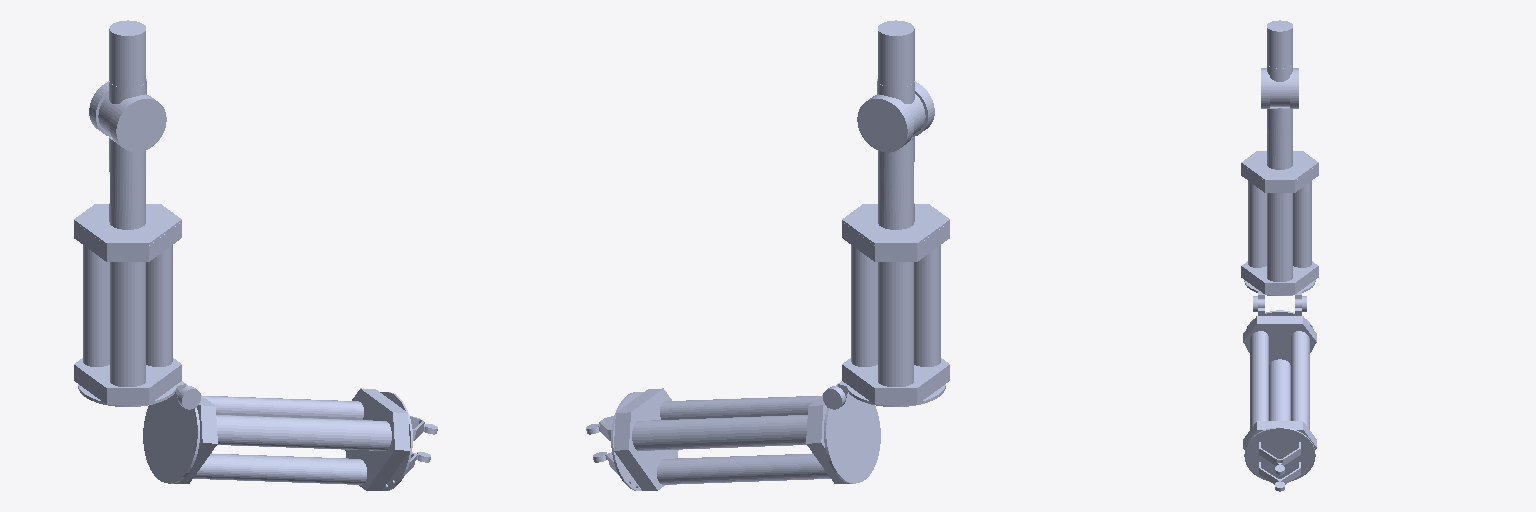
The robot description file, URDF, robot "softarm":
<?xml version="1.0" encoding="utf-8"?>
<robot
  name="softarm">
  <link name="world">
    <inertial>
      <mass value="0.00001" />
      <origin xyz="0.0 0.0 0.0" rpy="0 0 0" />
      <inertia ixx="0.00001" ixy="0" ixz="0" iyy="0.00001" iyz="0" izz="0.00001" />
    </inertial>
  </link>
  <joint
    name="world_fixed" type="fixed">
    <origin
      xyz="0 0 0"
      rpy="0 0 0" />
    <parent
      link="world" />
    <child
      link="Link1" />
  </joint>
  <link
    name="Link1">
    <inertial>
      <origin
        xyz="0 0 0"
        rpy="0 0 0" />
      <mass
        value="0.78" />
      <inertia
        ixx="0.00039261"
        ixy="-0.00000153"
        ixz="-0.00000322"
        iyy="0.00121497"
        iyz="0.00000248"
        izz="0.00123050" />
    </inertial>
    <visual>
      <origin
        xyz="0 0 -0.0947"
        rpy="0 3.141592 0" />
      <geometry>
        <mesh
          filename="meshes/Link1.stl" />
      </geometry>
      <material
        name="">
        <color
          rgba="0.79216 0.81961 0.93333 1" />
      </material>
    </visual>
    <collision>
      <origin
        xyz="0 0 0"
        rpy="0 0 0" />
      <geometry>
        <mesh
          filename="meshes/Link1.stl" />
      </geometry>
    </collision>
  </link>
  <link
    name="Link2">
    <inertial>
      <origin
        xyz="0 0 0"
        rpy="0 0 0" />
      <mass
        value="1.655" />
      <inertia
        ixx="0.00231828"
        ixy="0.00000590"
        ixz="-0.00006193"
        iyy="0.00261905"
        iyz="0.00000692"
        izz="0.00207261" />
    </inertial>
    <visual>
      <origin
        xyz="0 0 0"
        rpy="0 3.141592 0" />
      <geometry>
        <mesh
          filename="meshes/Link2.stl" />
      </geometry>
      <material
        name="">
        <color
          rgba="0.79216 0.81961 0.93333 1" />
      </material>
    </visual>
    <collision>
      <origin
        xyz="0 0 0"
        rpy="0 0 0" />
      <geometry>
        <mesh
          filename="meshes/Link2.stl" />
      </geometry>
    </collision>
  </link>
  <joint
    name="Joint1"
    type="revolute">
    <origin
      xyz="0 0 -0.0947"
      rpy="0 3.141592 0" />
    <parent
      link="Link1" />
    <child
      link="Link2" />
    <axis
      xyz="0 0 1" />
    <limit
      lower="-2.4"
      upper="2.4"
      effort="100"
      velocity="10" />
  </joint>
  <link
    name="Link3">
    <inertial>
      <origin
        xyz="0 0 0"
        rpy="0 0 0" />
      <mass
        value="0.64" />
      <inertia
        ixx="0.00032465"
        ixy="-0.00001796"
        ixz="0.00002004"
        iyy="0.00102253"
        iyz="0.00000286"
        izz="0.00102846" />
    </inertial>
    <visual>
      <origin
        xyz="0 0 0"
        rpy="0 3.141592 0" />
      <geometry>
        <mesh
          filename="meshes/Link3.stl" />
      </geometry>
      <material
        name="">
        <color
          rgba="0.792156862745098 0.819607843137255 0.933333333333333 1" />
      </material>
    </visual>
    <collision>
      <origin
        xyz="0 0 0"
        rpy="0 0 0" />
      <geometry>
        <mesh
          filename="meshes/Link3.stl" />
      </geometry>
    </collision>
  </link>
  <joint
    name="Joint2"
    type="revolute">
    <origin
      xyz="0 0 0.0645"
      rpy="0 0 0" />
    <parent
      link="Link2" />
    <child
      link="Link3" />
    <axis
      xyz="0 1 0" />
    <limit
      lower="-2.4"
      upper="0.5"
      effort="100"
      velocity="10" />
  </joint>
  <link
    name="Link4">
    <inertial>
      <origin
        xyz="0 0 0"
        rpy="0 0 0" />
      <mass
        value="1.075" />
      <inertia
        ixx="0.0405477407666747"
        ixy="-0.000289468434912619"
        ixz="1.71060085725038E-08"
        iyy="0.0104663629578157"
        iyz="9.60841124291398E-09"
        izz="0.0406532684842406" />
    </inertial>
    <visual>
      <origin
        xyz="0 0 0"
        rpy="0 3.141592 0" />
      <geometry>
        <mesh
          filename="meshes/Link4.stl" />
      </geometry>
      <material
        name="">
        <color
          rgba="0.792156862745098 0.819607843137255 0.933333333333333 1" />
      </material>
    </visual>
    <collision>
      <origin
        xyz="0 0 0"
        rpy="0 0 0" />
      <geometry>
        <mesh
          filename="meshes/Link4.stl" />
      </geometry>
    </collision>
  </link>
  <joint
    name="Joint3"
    type="revolute">
    <origin
      xyz="0 0 0.1603"
      rpy="0 0 0" />
    <parent
      link="Link3" />
    <child
      link="Link4" />
    <axis
      xyz="0 0 1" />
    <limit
      lower="-2.4"
      upper="2.4"
      effort="100"
      velocity="10" />
  </joint>
  <link
    name="Link5">
    <inertial>
      <origin
        xyz="0 0 0"
        rpy="0 0 0" />
      <mass
        value="1.270" />
      <inertia
        ixx="0.0758384252554791"
        ixy="0.000649795347183711"
        ixz="2.80804082321391E-08"
        iyy="0.0101507634836524"
        iyz="-1.90330184436038E-08"
        izz="0.0759862885863381" />
    </inertial>
    <visual>
      <origin
        xyz="0 0 0"
        rpy="0 3.141592 0" />
      <geometry>
        <mesh
          filename="meshes/Link5.stl" />
      </geometry>
      <material
        name="">
        <color
          rgba="0.792156862745098 0.819607843137255 0.933333333333333 1" />
      </material>
    </visual>
    <collision>
      <origin
        xyz="0 0 0"
        rpy="0 0 0" />
      <geometry>
        <mesh
          filename="meshes/Link5.stl" />
      </geometry>
    </collision>
  </link>
  <joint
    name="Joint4"
    type="revolute">
    <origin
      xyz="-0.0853 0 0.3515"
      rpy="0 0 0" />
    <parent
      link="Link4" />
    <child
      link="Link5" />
    <axis
      xyz="0 1 0" />
    <limit
      lower="-2.0944"
      upper="-0.5236"
      effort="100"
      velocity="10" />
  </joint>
  <link
    name="Link6">
    <inertial>
      <origin
        xyz="0 0 0"
        rpy="0 0 0" />
      <mass
        value="0.575" />
      <inertia
        ixx="0.00302781236106101"
        ixy="2.1589413987634E-19"
        ixz="4.063629973015E-19"
        iyy="0.00292442908958181"
        iyz="6.86907194908181E-19"
        izz="0.00309506252392298" />
    </inertial>
    <visual>
      <origin
        xyz="0 0 0"
        rpy="0 3.141592 0" />
      <geometry>
        <mesh
          filename="meshes/Link6.stl" />
      </geometry>
      <material
        name="">
        <color
          rgba="0.792156862745098 0.819607843137255 0.933333333333333 1" />
      </material>
    </visual>
    <collision>
      <origin
        xyz="0 0 0"
        rpy="0 0 0" />
      <geometry>
        <mesh
          filename="meshes/Link6.stl" />
      </geometry>
    </collision>
  </link>
  <joint
    name="Joint5"
    type="revolute">
    <origin
      xyz="0.0853 0 0.5253"
      rpy="0 0 0" />
    <parent
      link="Link5" />
    <child
      link="Link6" />
    <axis
      xyz="1 0 0" />
    <limit
      lower="-1.0472"
      upper="1.0472"
      effort="100"
      velocity="10" />
  </joint>
  <link name="tcp">
    <inertial>
      <mass value="0.00001" />
      <origin xyz="0.0 0.0 0.0" rpy="0 0 0" />
      <inertia ixx="0.00001" ixy="0" ixz="0" iyy="0.00001" iyz="0" izz="0.00001" />
    </inertial>
  </link>
  <joint name="tcp" type="fixed">
    <parent link="Link6"/>
    <child link="tcp"/>
    <origin xyz="0 0 0.1858" rpy="0 0 0"/>
  </joint>

</robot>

--- What the picture shows (computed from the rendered views, not written in the file) ---
The picture shows the robot from 3 angles, left to right: view 1: azimuth 30°, elevation 25°; view 2: azimuth 150°, elevation 25°; view 3: azimuth 270°, elevation 25°; orthographic projection.
Robot: softarm — 8 links, 7 joints (5 revolute, 2 fixed); root link world; default pose: all joints at 0 but 1 set to mid-range because 0 is outside their limits (Joint4 = -1.31).
Visible links, largest first — view 1: Link5, Link4, Link3, Link1, Link2; view 2: Link5, Link4, Link3, Link1, Link2; view 3: Link5, Link4, Link3, Link1, Link2.
Link boxes in pixels (<box>): Link5: <box>143,384,437,490</box>; Link4: <box>74,203,185,406</box>; Link3: <box>89,81,166,210</box>; Link1: <box>109,20,145,87</box>; Link2: <box>98,79,146,134</box>; Link5: <box>586,384,880,490</box>; Link4: <box>838,203,949,406</box>; Link3: <box>857,81,934,210</box>; Link1: <box>878,20,914,87</box>; Link2: <box>877,79,925,134</box>; Link5: <box>1243,296,1316,491</box>; Link4: <box>1241,151,1318,307</box>; Link3: <box>1261,68,1298,156</box>; Link1: <box>1267,20,1292,68</box>; Link2: <box>1267,65,1292,106</box>.
Size in the robot's own frame: 0.6724 by 0.1787 by 0.9479 metres.
Meshes: 6 distinct files referenced, 5 mesh visuals loaded (5 binary STL); not drawn: 1 (reference not matched to a file when rendering).